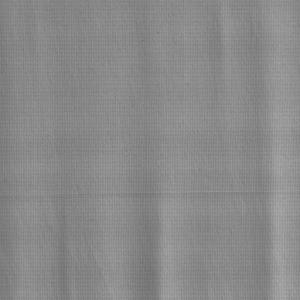Wrinkle: (127, 5, 188, 300), (244, 1, 292, 300), (202, 1, 232, 132), (48, 188, 77, 300)
